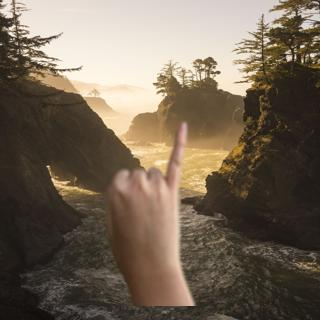Fine: (96, 115, 198, 294)
